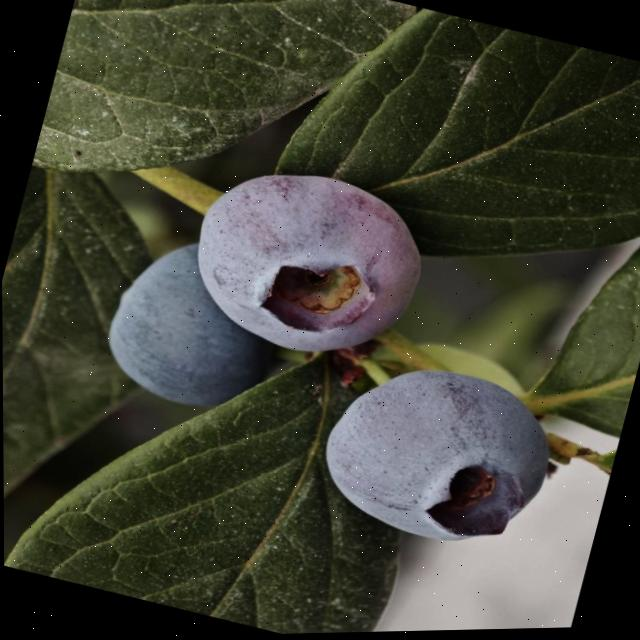RipeBlueBerry: (303, 342, 568, 569), (90, 221, 298, 425)
Semi-RipeBlueBerry: (169, 144, 442, 382)
